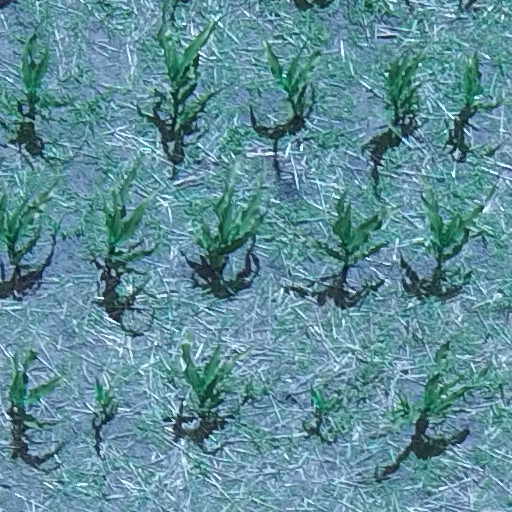planta: (153, 19, 215, 131), (413, 193, 496, 268), (193, 182, 265, 268), (311, 189, 388, 269), (98, 168, 157, 269), (8, 350, 62, 430), (266, 42, 320, 119), (181, 343, 232, 409), (378, 53, 427, 117), (418, 372, 479, 421), (462, 52, 500, 113), (21, 32, 49, 104), (93, 380, 115, 420), (310, 388, 341, 412)
